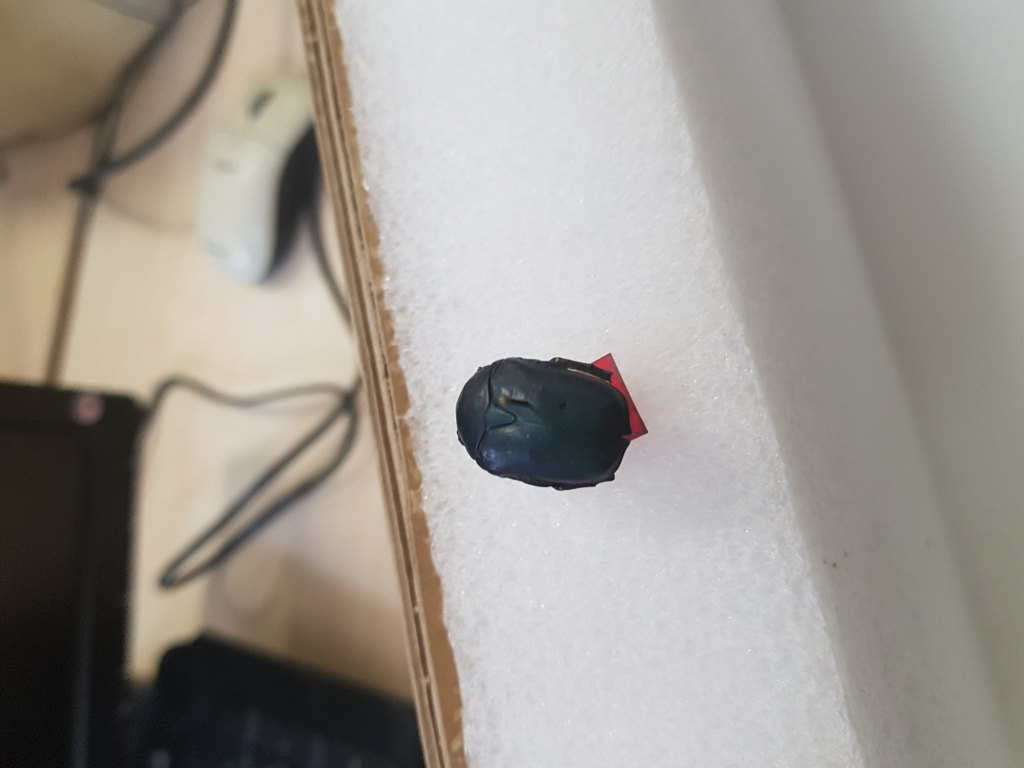Protaetia_afflicta: (450, 351, 634, 494)
